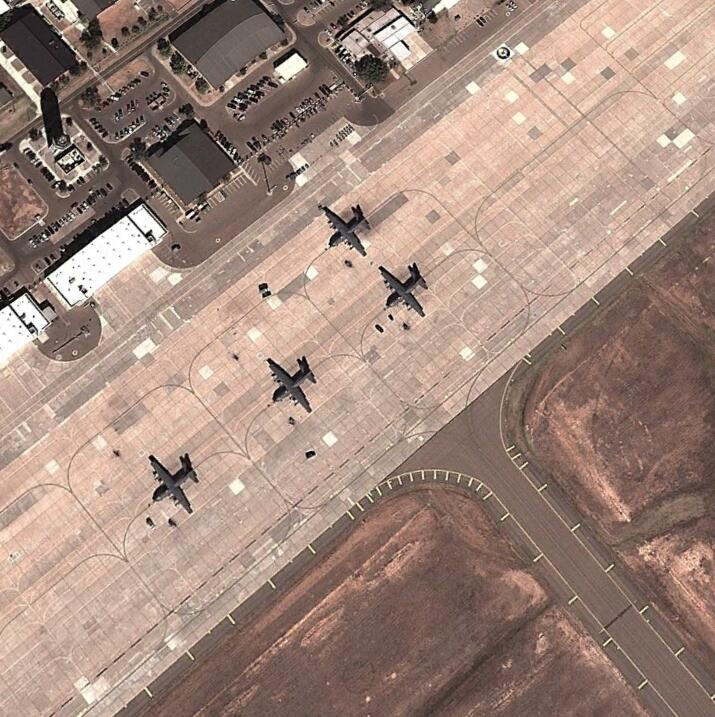A2: (146, 454, 204, 515), (264, 358, 320, 415), (377, 263, 432, 317), (320, 202, 371, 256)
